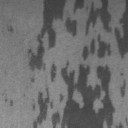red iron: (28, 0, 128, 70), (51, 34, 123, 128), (33, 92, 52, 128), (121, 82, 126, 96), (8, 26, 14, 33)
